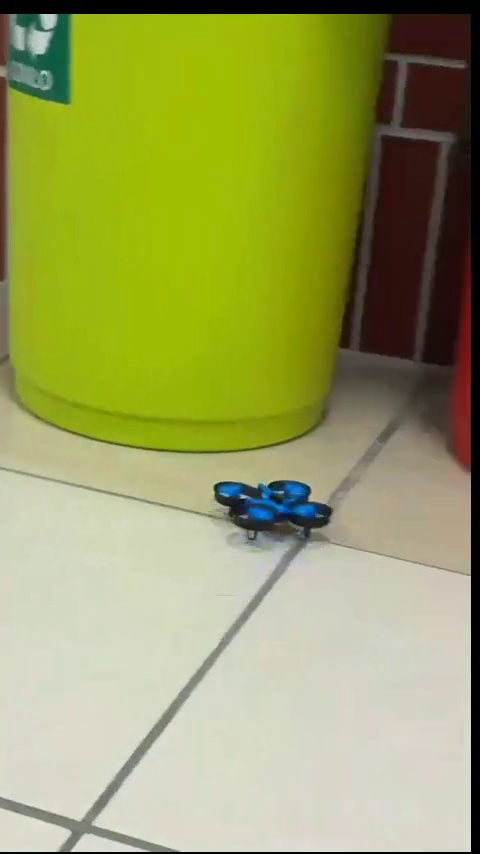drone: (211, 474, 336, 540)
